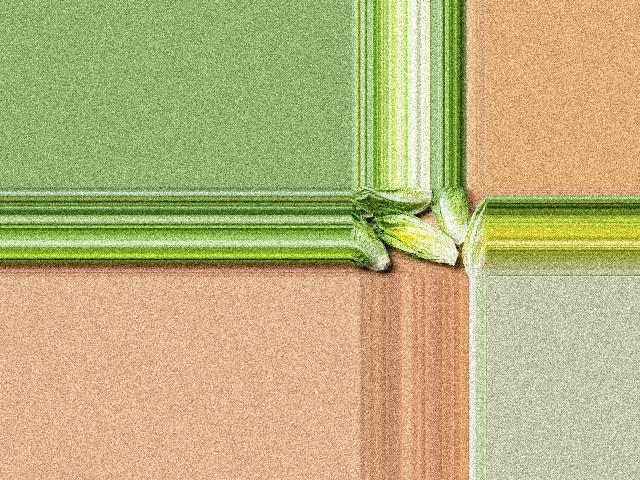lettuce: (460, 197, 488, 275)
